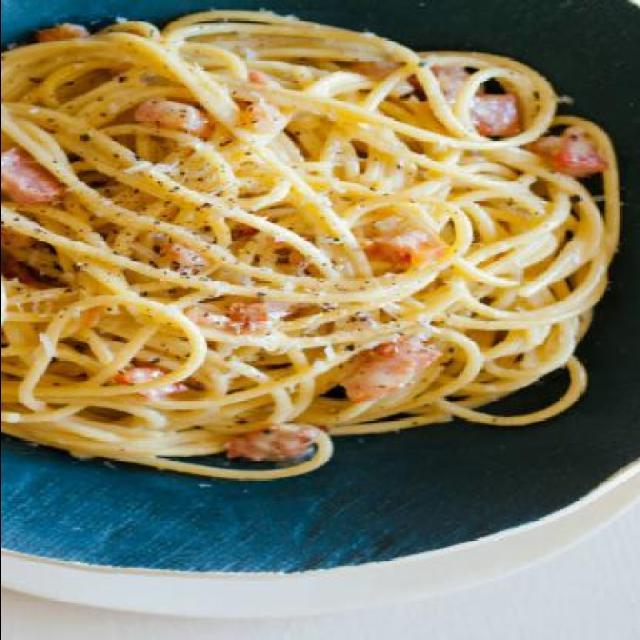Pasta with carbonara sauce: (52, 19, 618, 487)
